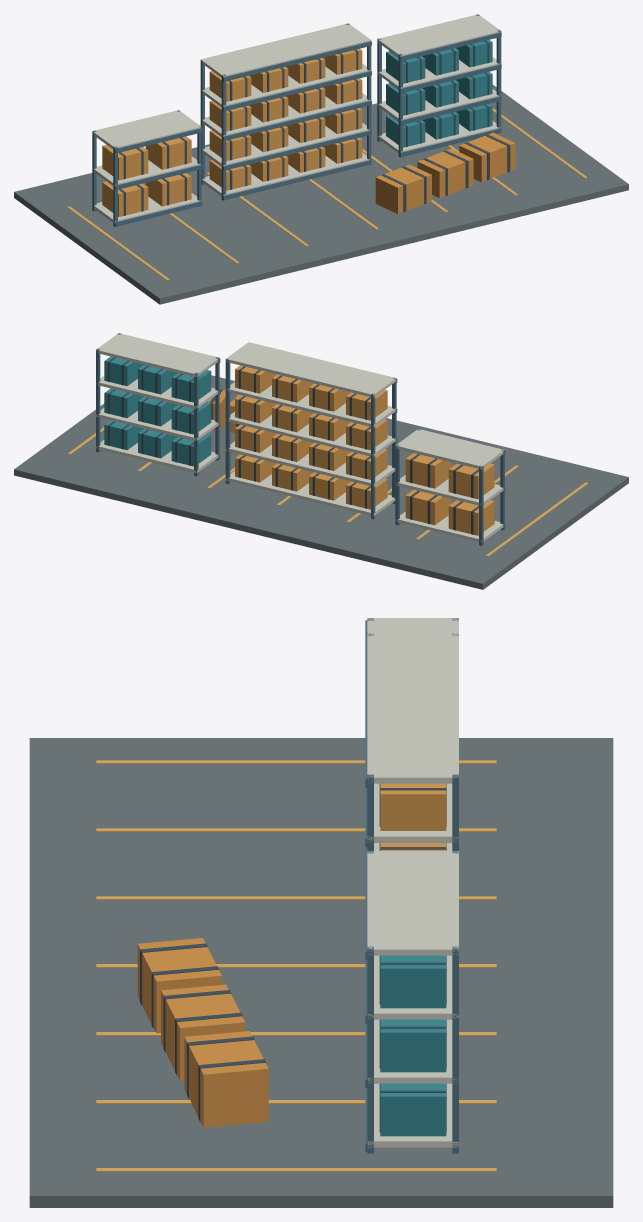
Rendered from logistics.glb.
The picture shows the model from 3 angles, top to bottom: view 1: azimuth 30°, elevation 25°; view 2: azimuth 150°, elevation 25°; view 3: azimuth 270°, elevation 25°; orthographic projection. The views are drawn at different scales.
Parts seen in each view (by area): view 1: main/floor, main/rackB/shelves/4, main/rackC/shelves/3, main/rackA/shelves/2, main/looseCargo/0/body, main/looseCargo/1/body, main/looseCargo/2/body, main/rackB/shelves/3, main/rackB/shelves/1, main/rackB/shelves/2, main/rackB/shelves/0, main/rackA/cargo/2/body (+51 smaller); view 2: main/floor, main/rackB/shelves/4, main/rackC/shelves/3, main/rackA/shelves/2, main/rackB/shelves/1, main/rackB/shelves/2, main/rackB/shelves/3, main/rackB/shelves/0, main/rackA/cargo/1/body, main/rackA/cargo/3/body, main/rackA/cargo/0/body, main/rackA/cargo/2/body (+40 smaller); view 3: main/floor, main/rackB/shelves/4, main/rackC/shelves/3, main/looseCargo/2/body, main/looseCargo/1/body, main/looseCargo/0/body, main/rackC/cargo/2/body, main/rackC/cargo/5/body, main/rackC/cargo/8/body, main/rackB/cargo/15/body, main/rackC/shelves/0, main/rackC/shelves/2 (+12 smaller).
Boxes of the visible parts, left/top/right/bottom form: main/floor: left=14, top=85, right=628, bottom=304; main/rackB/shelves/4: left=201, top=23, right=371, bottom=77; main/rackC/shelves/3: left=377, top=15, right=500, bottom=57; main/rackA/shelves/2: left=92, top=110, right=200, bottom=148; main/looseCargo/0/body: left=375, top=164, right=431, bottom=213; main/looseCargo/1/body: left=417, top=148, right=473, bottom=198; main/looseCargo/2/body: left=459, top=132, right=515, bottom=182; main/rackB/shelves/3: left=202, top=63, right=371, bottom=107; main/rackB/shelves/1: left=202, top=122, right=369, bottom=166; main/rackB/shelves/2: left=202, top=93, right=370, bottom=136; main/rackB/shelves/0: left=202, top=152, right=369, bottom=195; main/rackA/cargo/2/body: left=102, top=144, right=148, bottom=180; main/floor: left=14, top=375, right=628, bottom=589; main/rackB/shelves/4: left=225, top=342, right=396, bottom=397; main/rackC/shelves/3: left=96, top=333, right=217, bottom=376; main/rackA/shelves/2: left=396, top=429, right=504, bottom=469; main/rackB/shelves/1: left=225, top=441, right=395, bottom=486; main/rackB/shelves/2: left=226, top=411, right=396, bottom=456; main/rackB/shelves/3: left=225, top=382, right=396, bottom=426; main/rackB/shelves/0: left=225, top=471, right=395, bottom=515; main/rackA/cargo/1/body: left=405, top=489, right=451, bottom=525; main/rackA/cargo/3/body: left=405, top=453, right=451, bottom=488; main/rackA/cargo/0/body: left=448, top=500, right=494, bottom=535; main/rackA/cargo/2/body: left=448, top=463, right=494, bottom=498; main/floor: left=29, top=738, right=613, bottom=1207; main/rackB/shelves/4: left=367, top=633, right=458, bottom=783; main/rackC/shelves/3: left=367, top=851, right=458, bottom=955; main/looseCargo/2/body: left=184, top=1031, right=268, bottom=1127; main/looseCargo/1/body: left=161, top=984, right=245, bottom=1080; main/looseCargo/0/body: left=137, top=938, right=221, bottom=1033; main/rackC/cargo/2/body: left=380, top=1083, right=446, bottom=1136; main/rackC/cargo/5/body: left=380, top=1019, right=446, bottom=1072; main/rackC/cargo/8/body: left=380, top=955, right=446, bottom=1008; main/rackB/cargo/15/body: left=380, top=783, right=446, bottom=830; main/rackC/shelves/0: left=367, top=1083, right=458, bottom=1147; main/rackC/shelves/2: left=367, top=955, right=458, bottom=1019.
Size of the model in its own units: 13 by 3.46 by 7.
